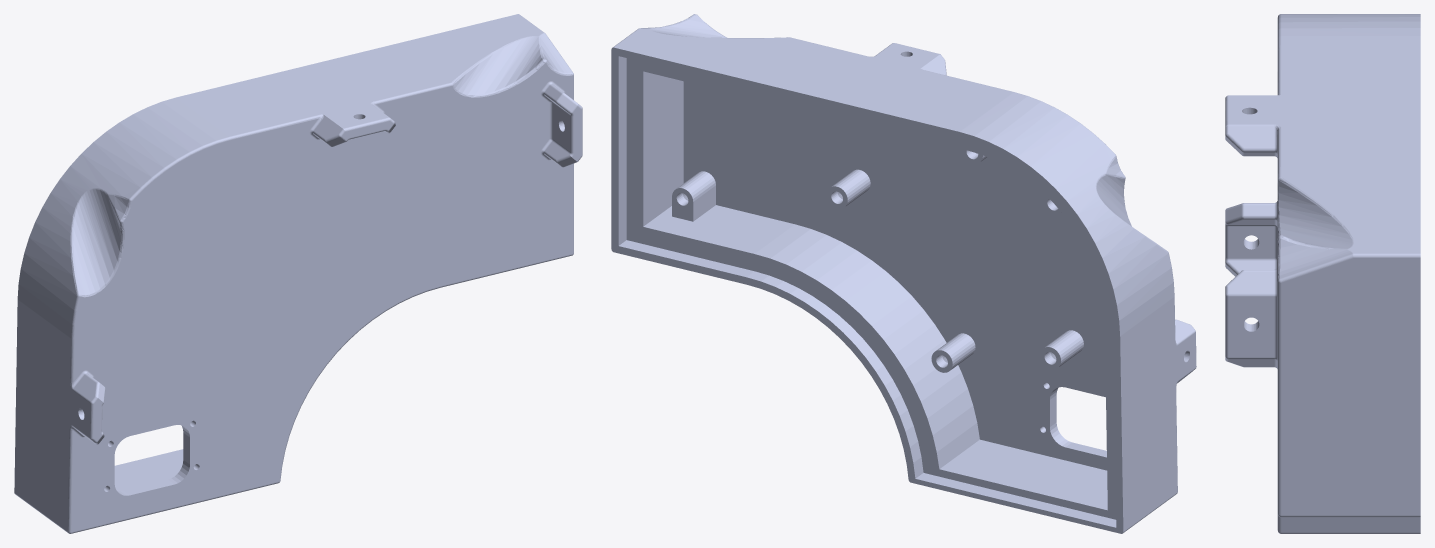
Rendered from Dashboard_Enclosure.glb.
The picture shows the model from 3 angles, left to right: view 1: azimuth 30°, elevation 25°; view 2: azimuth 150°, elevation 25°; view 3: azimuth 270°, elevation 25°; orthographic projection. The views are drawn at different scales.
Parts seen in each view (by area): view 1: world; view 2: world; view 3: world.
Part boxes in pixels (<box>): world: <box>14,14,582,533</box>; world: <box>611,14,1196,533</box>; world: <box>1225,14,1420,533</box>.
Bounding box in the file's own units: 217 × 147 × 55.8.
